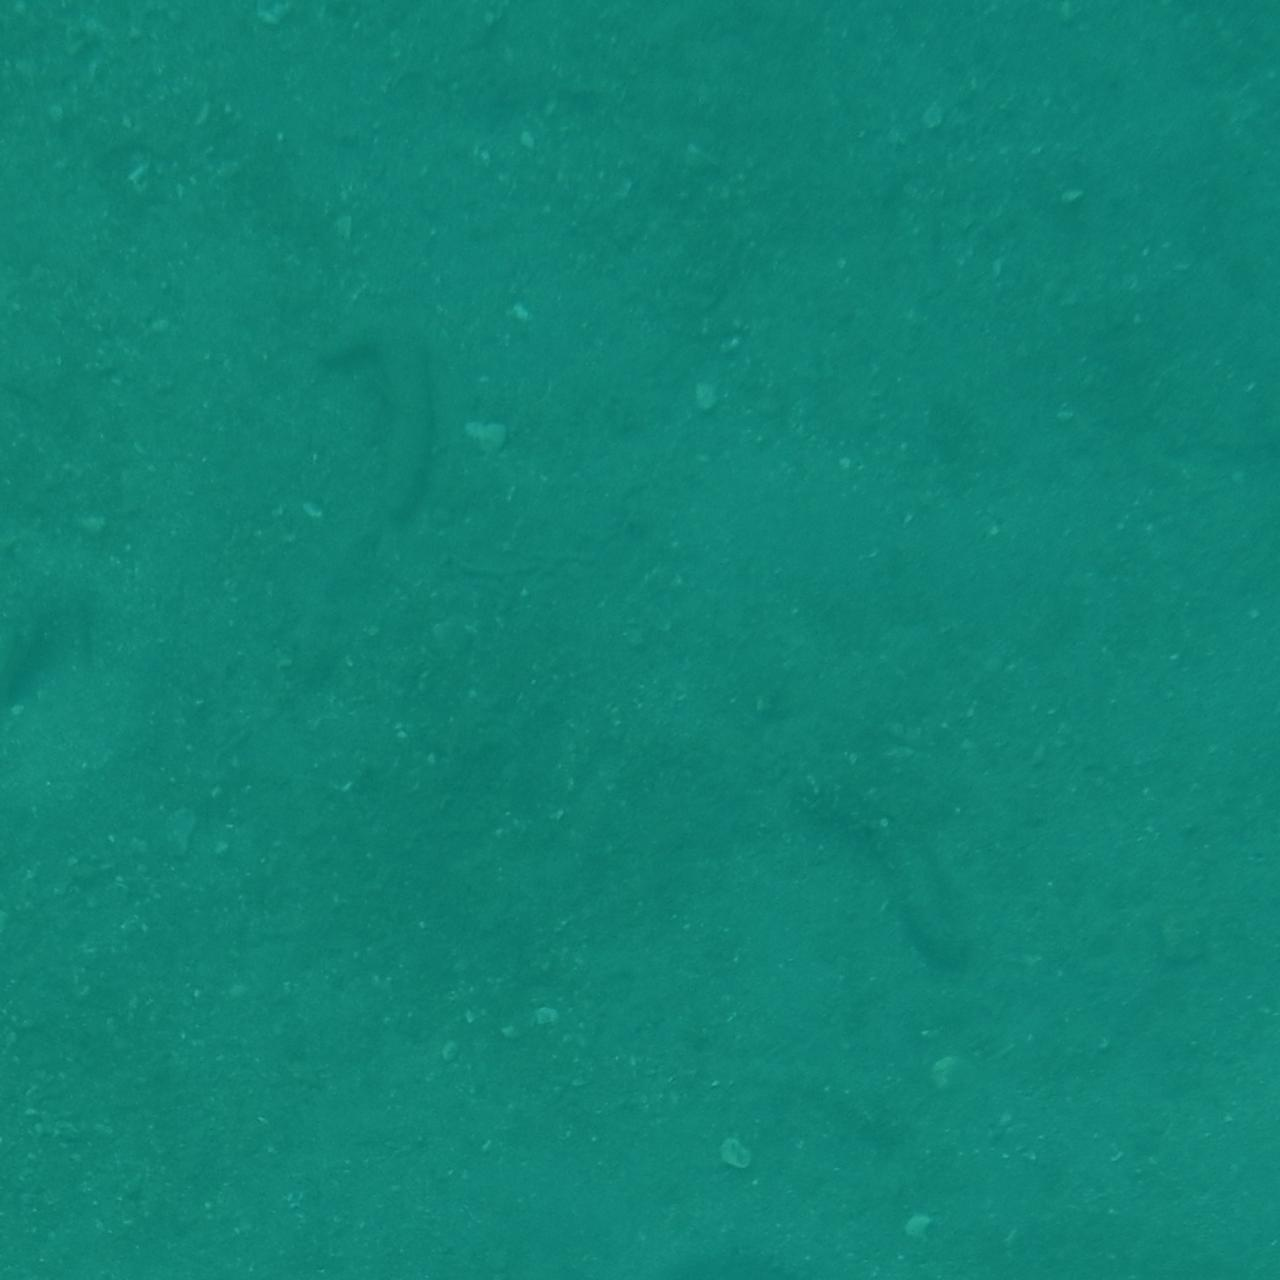Holothuria tubulosa: (782, 763, 994, 979), (324, 298, 461, 520)
